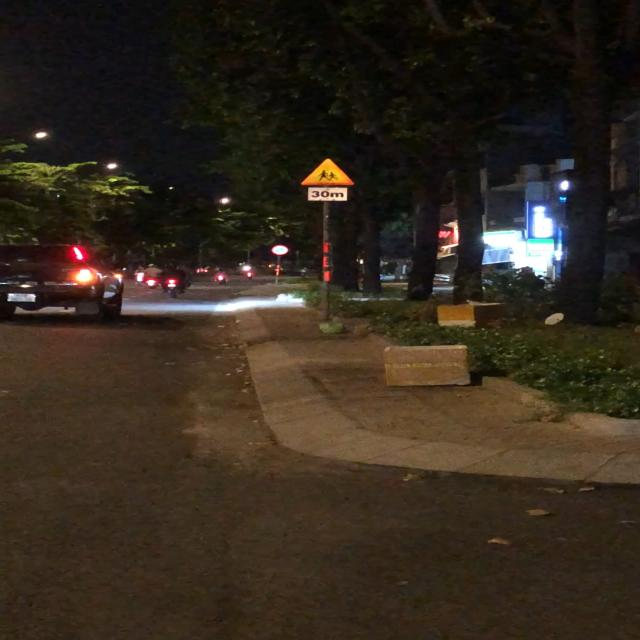Bien bao tre em: (302, 156, 358, 187)
